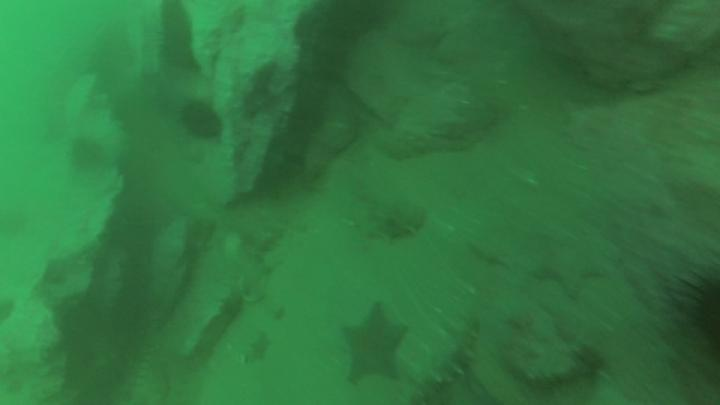echinus: (337, 301, 414, 388), (176, 98, 224, 143)
holothurian: (409, 309, 487, 401), (343, 178, 429, 240)
starfish: (662, 240, 720, 367)
